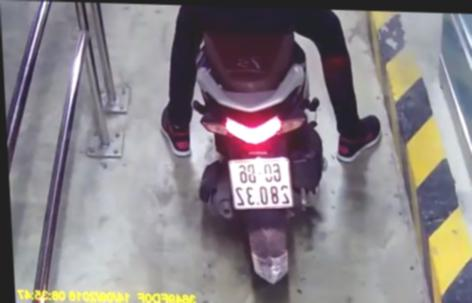License_Plate: (219, 150, 300, 220)
